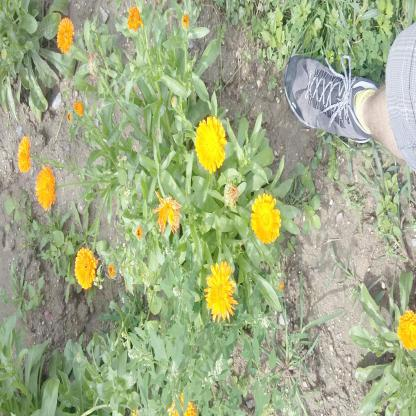marigold: (195, 117, 226, 171), (206, 264, 235, 320), (252, 195, 280, 244), (75, 247, 96, 289), (35, 166, 55, 209), (398, 312, 416, 351), (57, 16, 73, 52), (17, 137, 30, 173)
